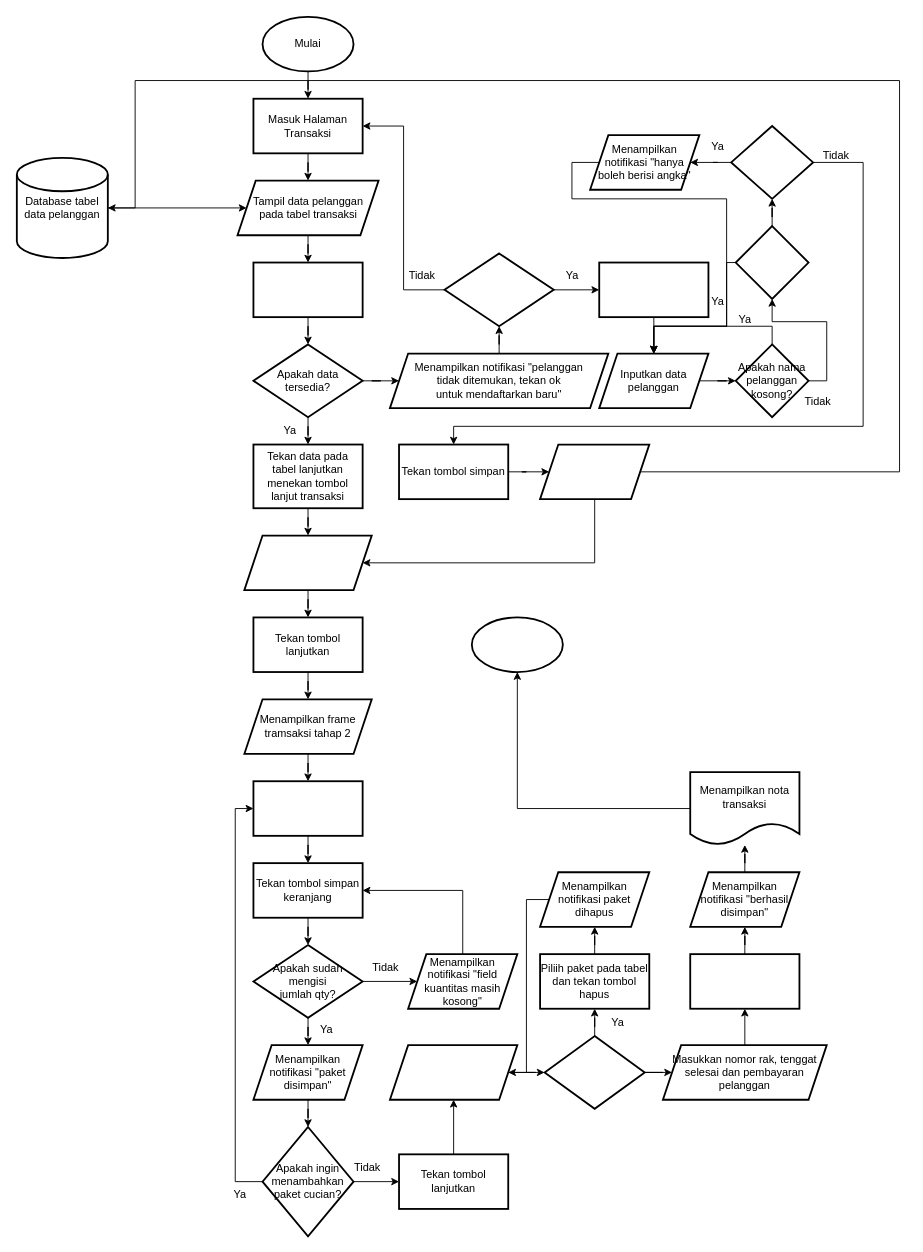
Some shapes in this 923 by 1252 pixel diagram are drawn without their labels. Here are the shapes that lost their labels. From the top down, the box of each, then its label:
(730, 125, 814, 199): Apakah notel pelanggan mengandung angka?
(734, 225, 809, 299): Apakah Alamat pelanggan kosong?
(252, 261, 363, 318): Cari data pelanggan
(443, 252, 554, 327): Apakah menekan ok?
(598, 261, 709, 318): Masuk ke laman input pelanggan baru
(539, 443, 650, 500): Menampilkan notifikasi "data berhasil disimpan"
(243, 534, 372, 591): Menampilkan frame transaksi tahap 1
(470, 616, 563, 672): Selesai
(252, 780, 363, 836): Pilih paket cucian pada tabel
(689, 953, 800, 1009): Tekan tombol simpan transaksi
(389, 1044, 518, 1100): Menampilkan frame transaksi tahap 3
(543, 1035, 645, 1109): Apakah ingin menghapus paket di keranjang?
